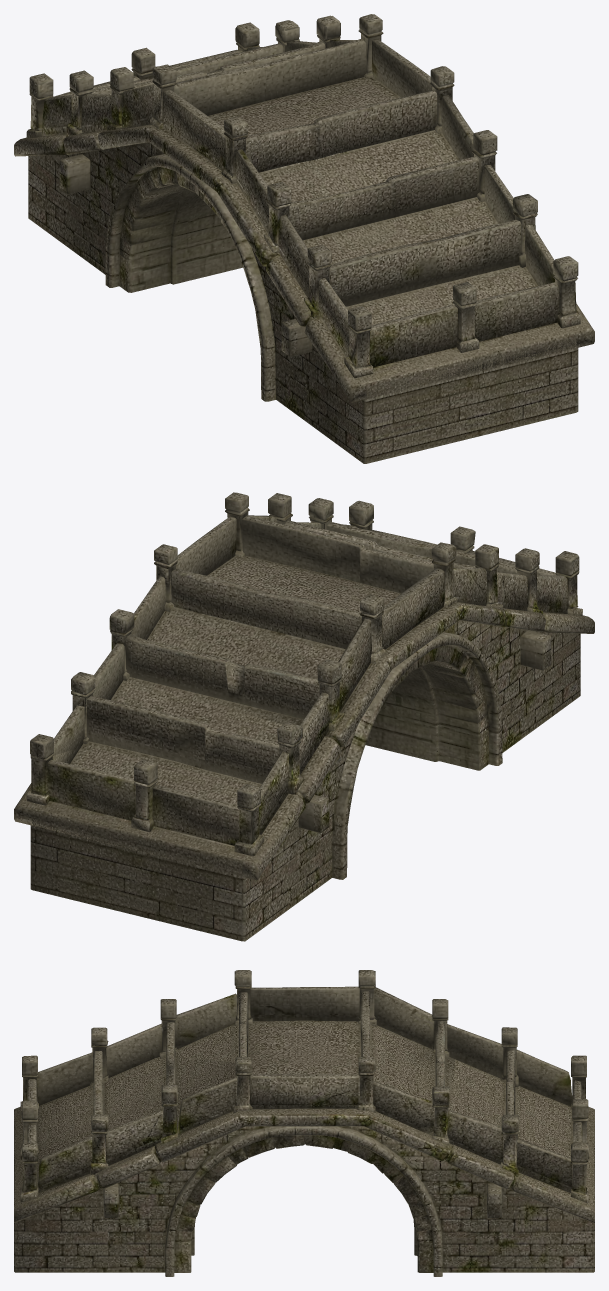
File: tripo_convert_f050eecd-63e0-4278-911d-6f9458f238c4.fbx
3 views of the same model, one above another, from view 1: azimuth 30°, elevation 25°; view 2: azimuth 150°, elevation 25°; view 3: azimuth 270°, elevation 25° (orthographic). The views are drawn at different scales.
Parts seen in each view (by area): view 1: tripo_node_f050eecd; view 2: tripo_node_f050eecd; view 3: tripo_node_f050eecd.
Part boxes in pixels (left/top/right/bottom): tripo_node_f050eecd: left=14, top=14, right=594, bottom=463; tripo_node_f050eecd: left=14, top=492, right=594, bottom=941; tripo_node_f050eecd: left=14, top=970, right=594, bottom=1276.
Size of the model in its own units: 0.4473 by 0.4004 by 0.998.
Materials: 1 (1 with a texture image).
